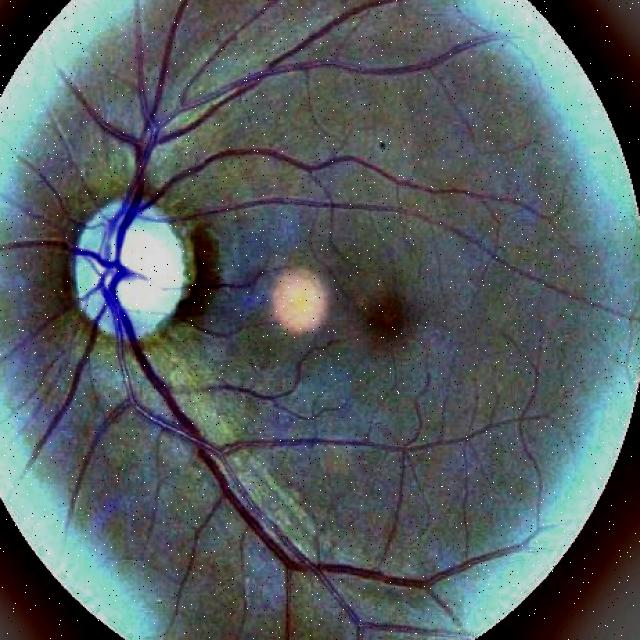Macula: (360, 292, 405, 334)
Nerves: (25, 46, 533, 597)
Optic Disk: (72, 201, 187, 337)
